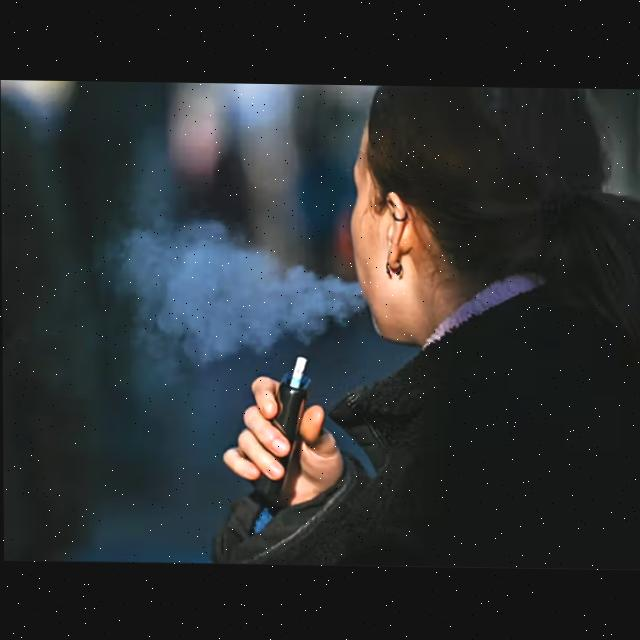vape: (246, 354, 311, 505)
